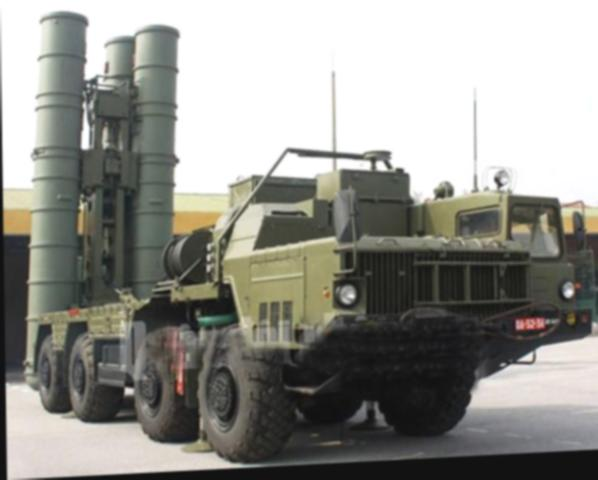License_Plate: (515, 313, 546, 336)
